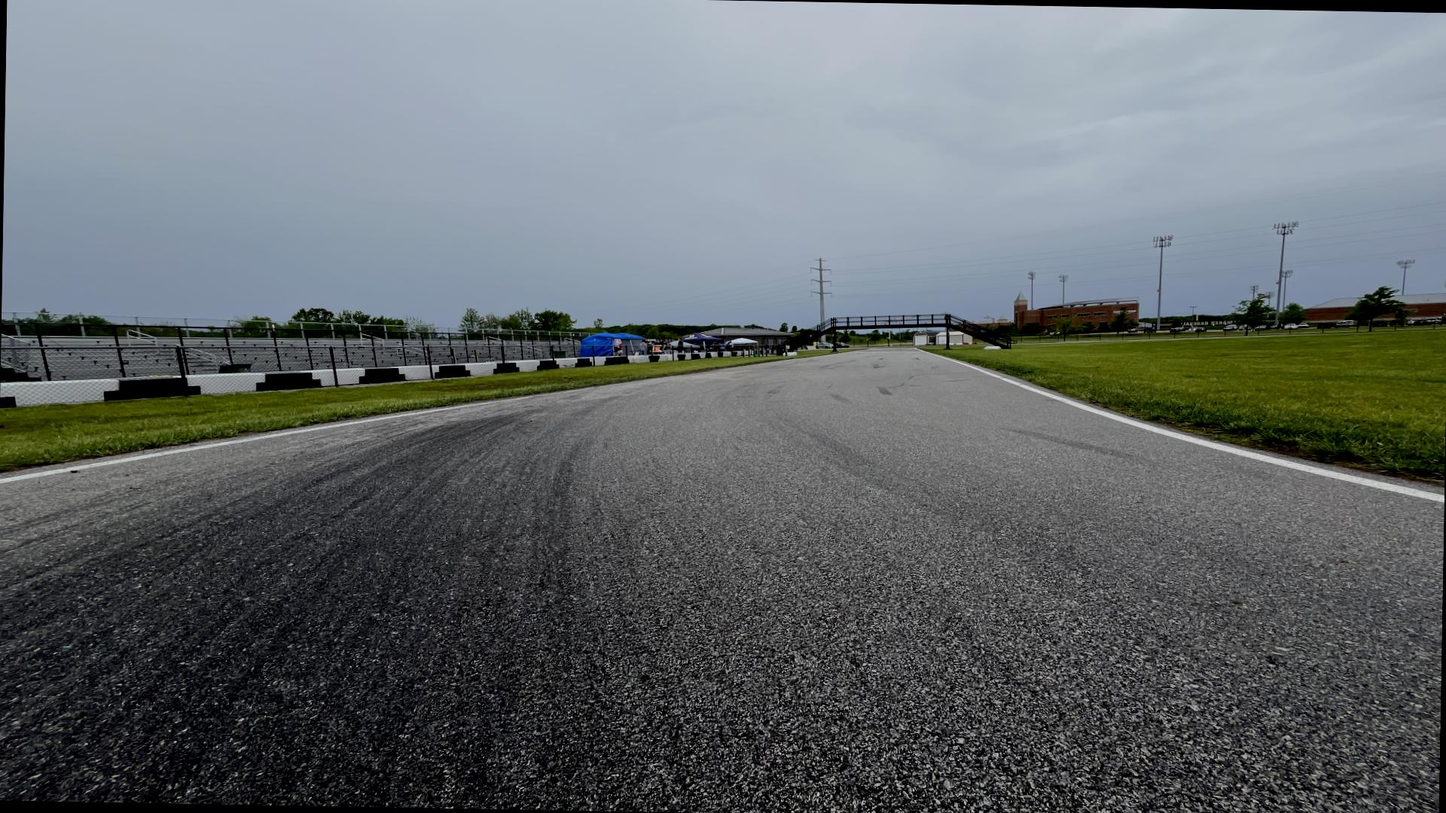white-line: (1167, 433, 1444, 507), (991, 370, 1176, 439), (253, 425, 323, 441), (945, 358, 994, 377), (54, 459, 116, 473), (597, 376, 659, 389), (0, 470, 60, 483), (203, 438, 256, 448), (153, 446, 206, 456), (114, 452, 160, 463), (365, 413, 424, 421), (538, 387, 596, 395), (313, 420, 367, 428), (657, 371, 706, 379), (493, 394, 538, 402), (407, 407, 450, 415), (450, 401, 493, 408), (706, 365, 746, 371), (924, 352, 946, 360), (749, 361, 777, 366), (819, 353, 841, 358), (783, 358, 807, 361), (851, 349, 870, 352)
